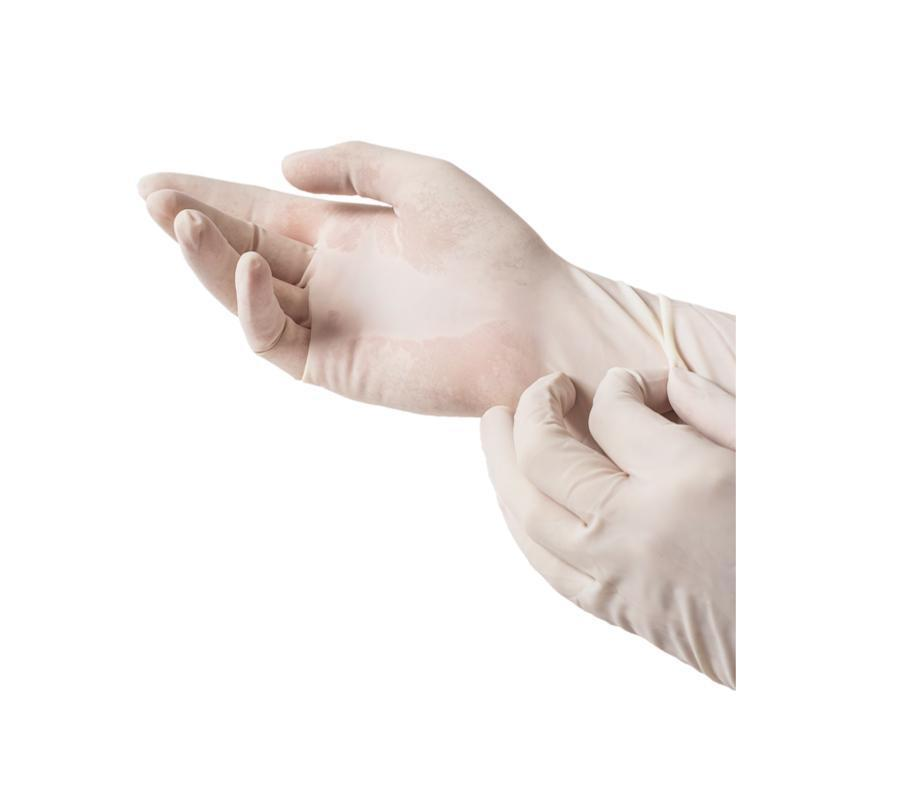gloves: (127, 120, 731, 416), (452, 339, 724, 710)
